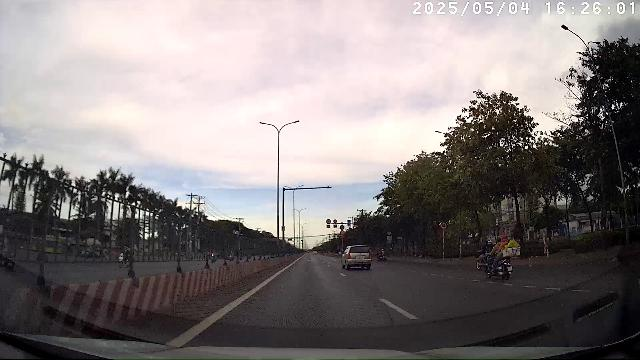127-toc-do-toi-da-50: (441, 222, 447, 229)
